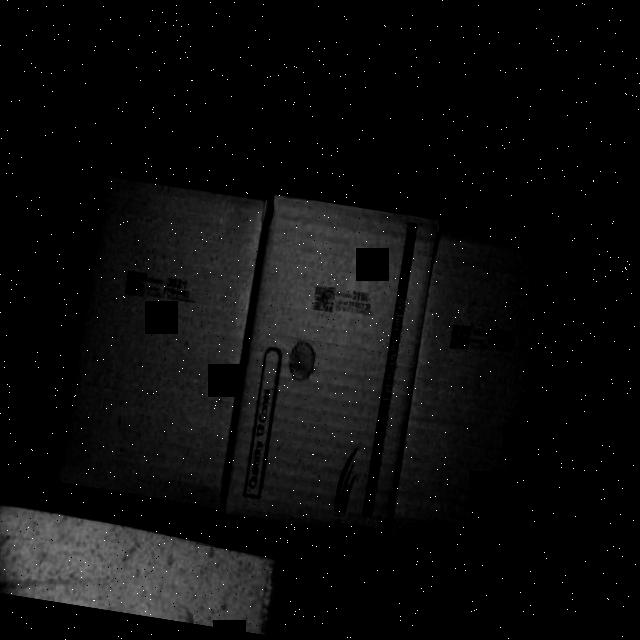box: (224, 193, 440, 535), (396, 223, 604, 561), (60, 181, 268, 513)
